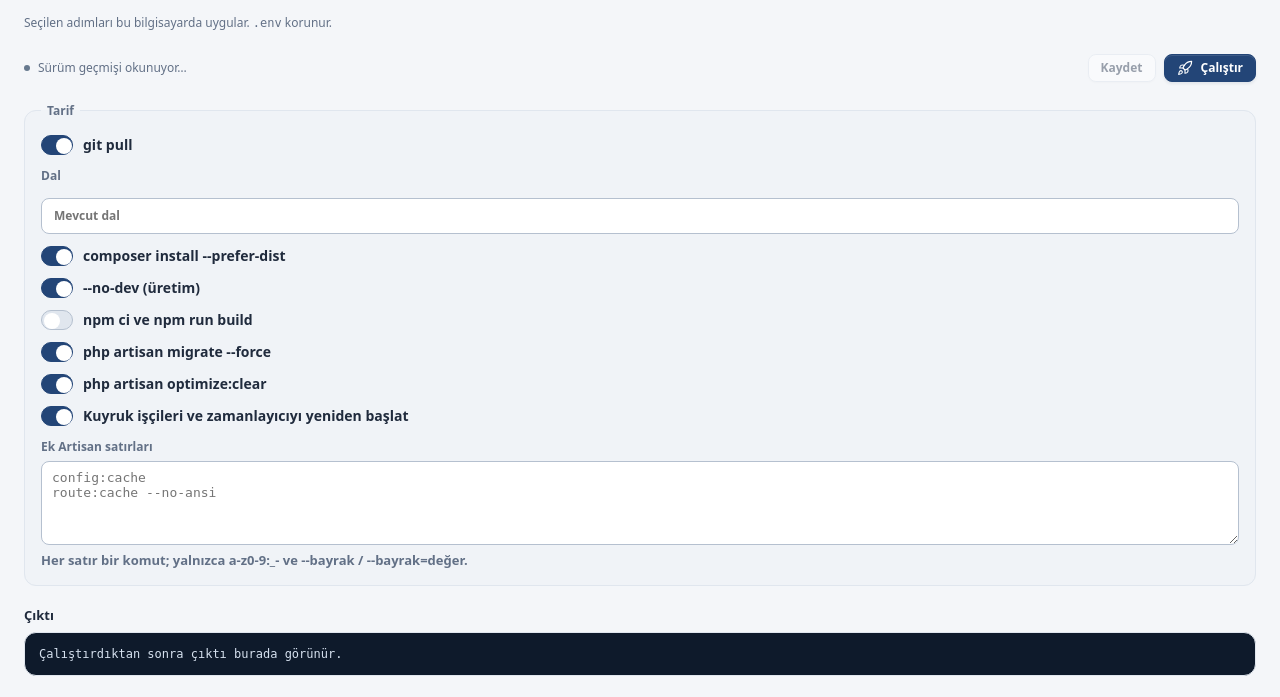
Test: release output identity › keeps a completed deployment output even if the new history read fails
Step 1. Click the button "Çalıştır" → point(1210, 68), box [1164,54,1256,82]
(page scrolled)
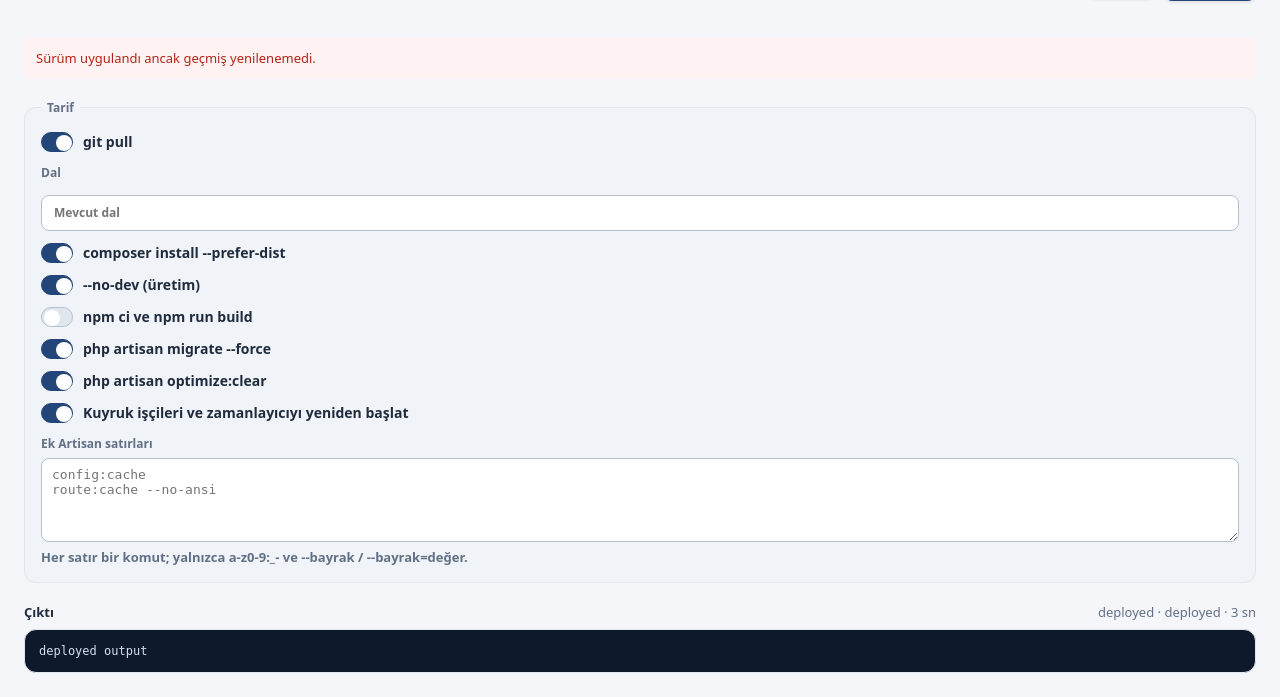
Check: the text "Sürüm uygulandı ancak geçmiş yenilenemedi." is shown, box [24,37,1256,79]
Check: the text "deployed output" is shown, box [24,629,1256,673]
